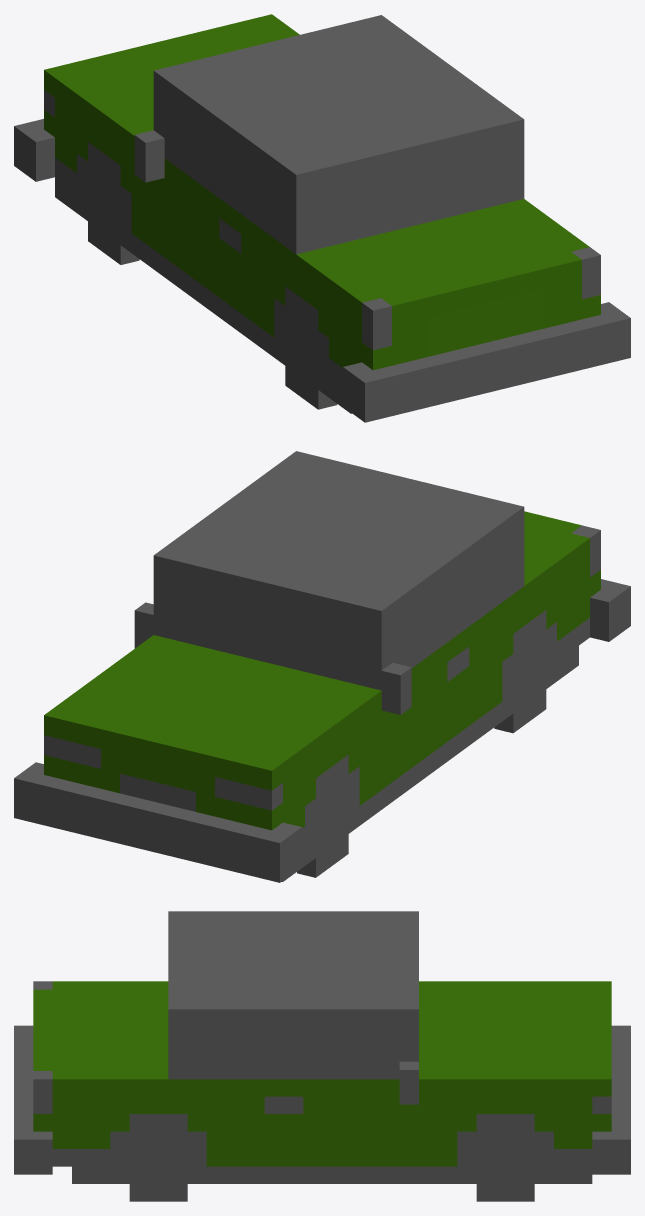
File: veh_car5.obj
3 renders of one model, top to bottom at view 1: azimuth 30°, elevation 25°; view 2: azimuth 150°, elevation 25°; view 3: azimuth 270°, elevation 25°, orthographic. The views are drawn at different scales.
Bounding box in the file's own units: 14 × 11 × 32.
